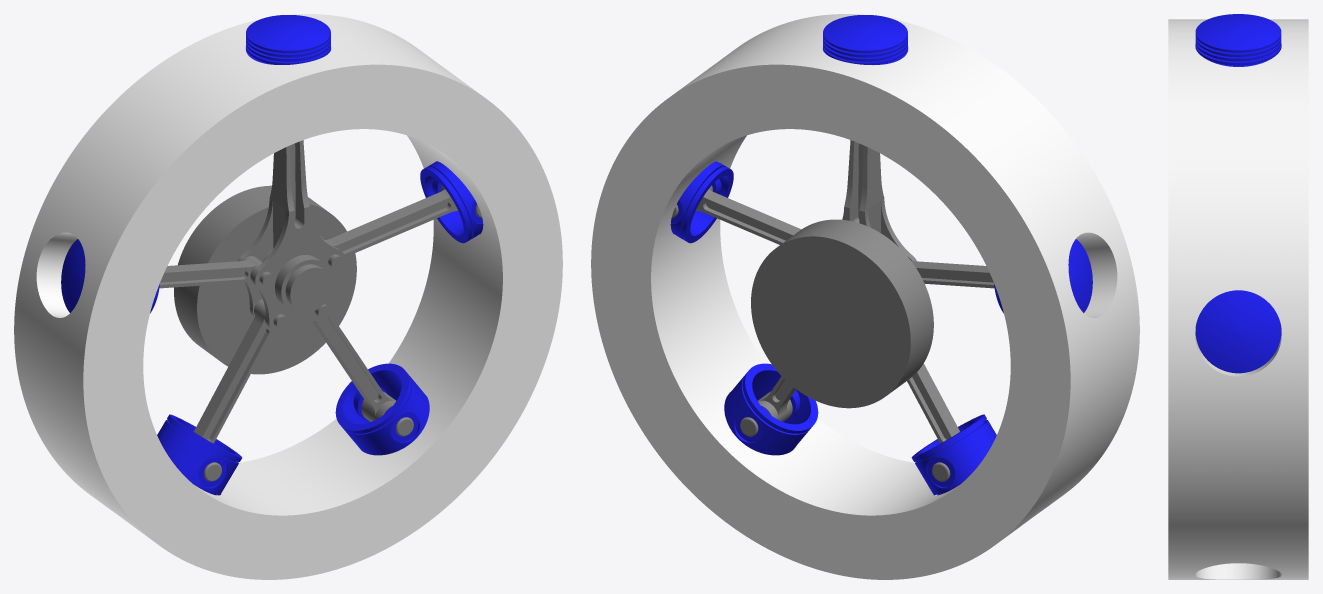
The model's file is radial_engine_v1.glb.
The picture shows the model from 3 angles, left to right: view 1: azimuth 30°, elevation 25°; view 2: azimuth 150°, elevation 25°; view 3: azimuth 270°, elevation 25°; orthographic projection.
Visible parts, largest first — view 1: Object_2, Object_45, Object_27, Object_4, Object_6, Object_7, Object_14, Object_37, Object_3, Object_46, Object_51, Object_5; view 2: Object_2, Object_45, Object_4, Object_6, Object_7, Object_27, Object_3, Object_37, Object_14, Object_51, Object_5, Object_46; view 3: Object_2, Object_3, Object_6.
Boxes of the visible parts, x1,y1,x2,y2 form: Object_2: (14,14,562,579); Object_45: (174,185,356,374); Object_27: (237,140,344,331); Object_4: (335,363,429,455); Object_6: (246,15,330,64); Object_7: (157,414,242,495); Object_14: (194,299,273,443); Object_37: (322,185,458,257); Object_3: (420,161,483,243); Object_46: (312,313,395,421); Object_51: (159,256,262,288); Object_5: (61,239,159,313); Object_2: (591,14,1139,579); Object_45: (751,219,933,408); Object_4: (724,363,818,455); Object_6: (823,15,907,65); Object_7: (911,414,996,495); Object_27: (842,140,916,261); Object_3: (670,161,733,243); Object_37: (695,185,801,244); Object_14: (907,363,959,443); Object_51: (911,261,994,288); Object_5: (994,239,1092,313); Object_46: (758,376,795,421); Object_2: (1168,19,1308,579); Object_3: (1195,290,1281,373); Object_6: (1195,14,1281,66).
Bounding box in the file's own units: 0.6 × 0.6231 × 0.15.
